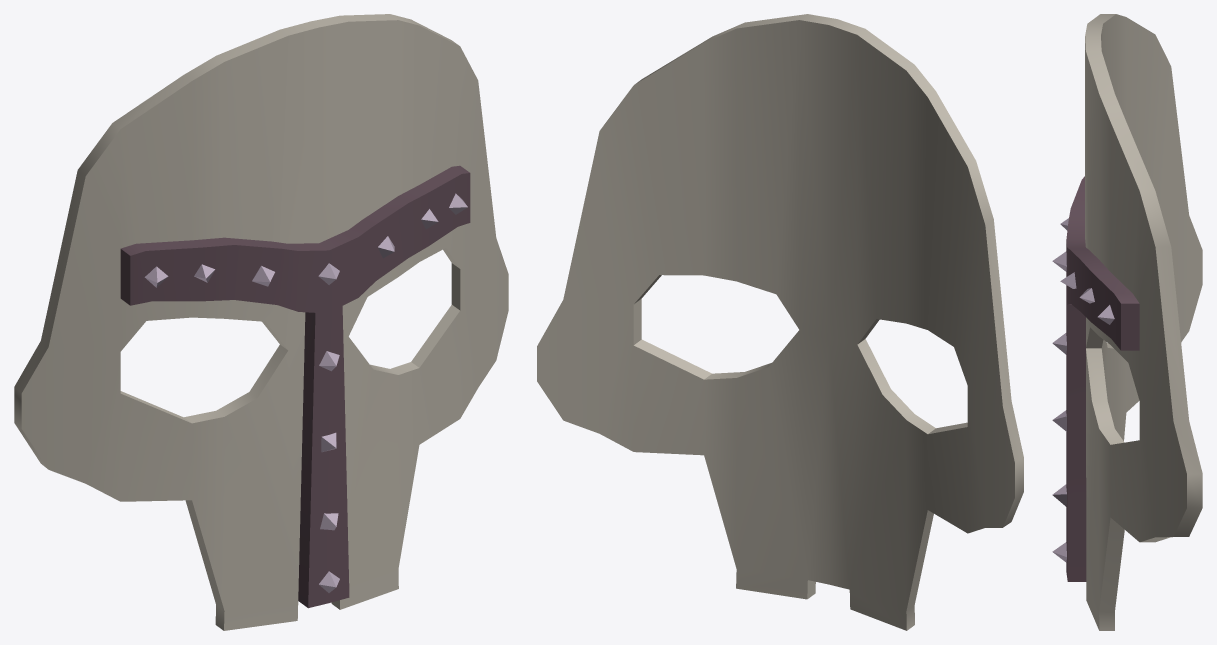
The model's file is Mask_07_03.fbx.
3 renders of one model, left to right at view 1: azimuth 30°, elevation 25°; view 2: azimuth 150°, elevation 25°; view 3: azimuth 270°, elevation 25°, orthographic. The views are drawn at different scales.
Visible parts, largest first — view 1: Mask_07_03; view 2: Mask_07_03; view 3: Mask_07_03.
Boxes of the visible parts, left/top/right/bottom form: Mask_07_03: left=14, top=14, right=508, bottom=630; Mask_07_03: left=537, top=14, right=1023, bottom=630; Mask_07_03: left=1052, top=14, right=1202, bottom=630.
Bounding box in the file's own units: 28.77 × 33.21 × 8.17.
